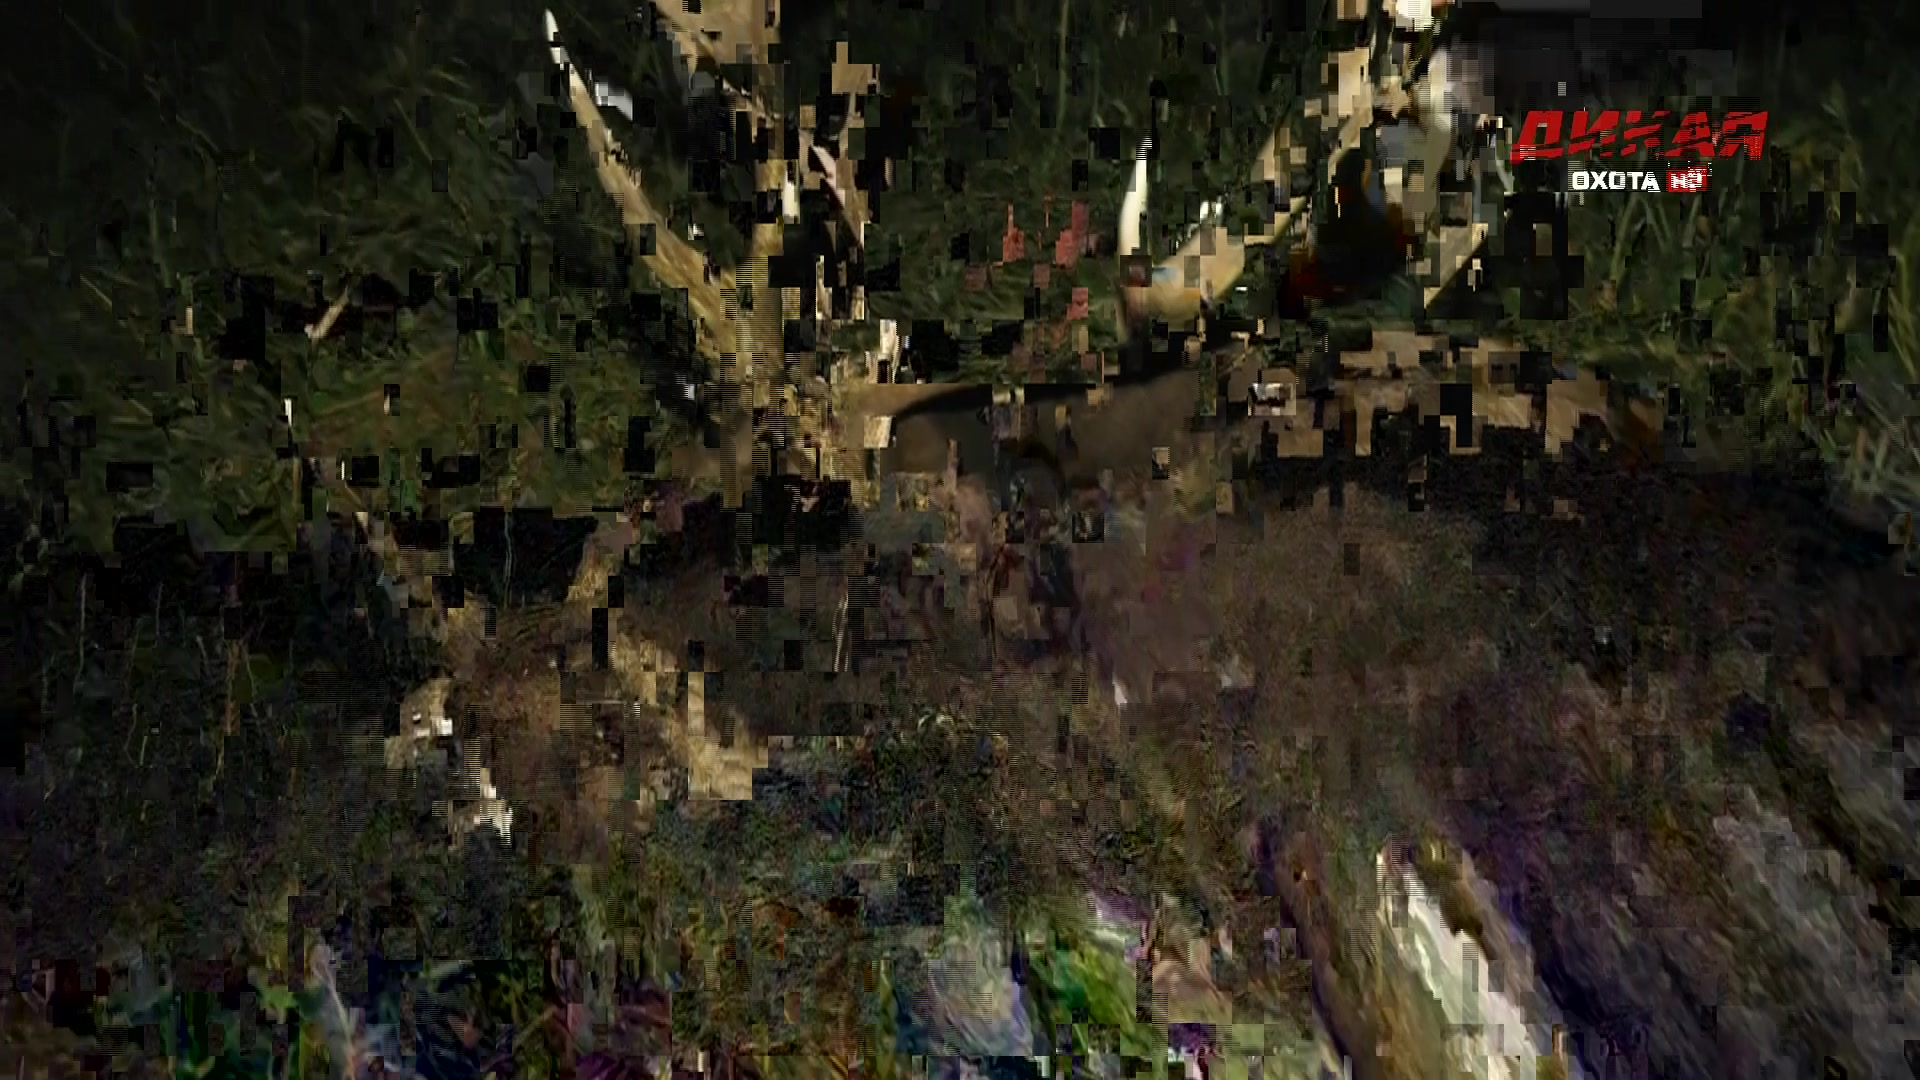Dikaya_Ohota_HD: (1506, 105, 1774, 199)
